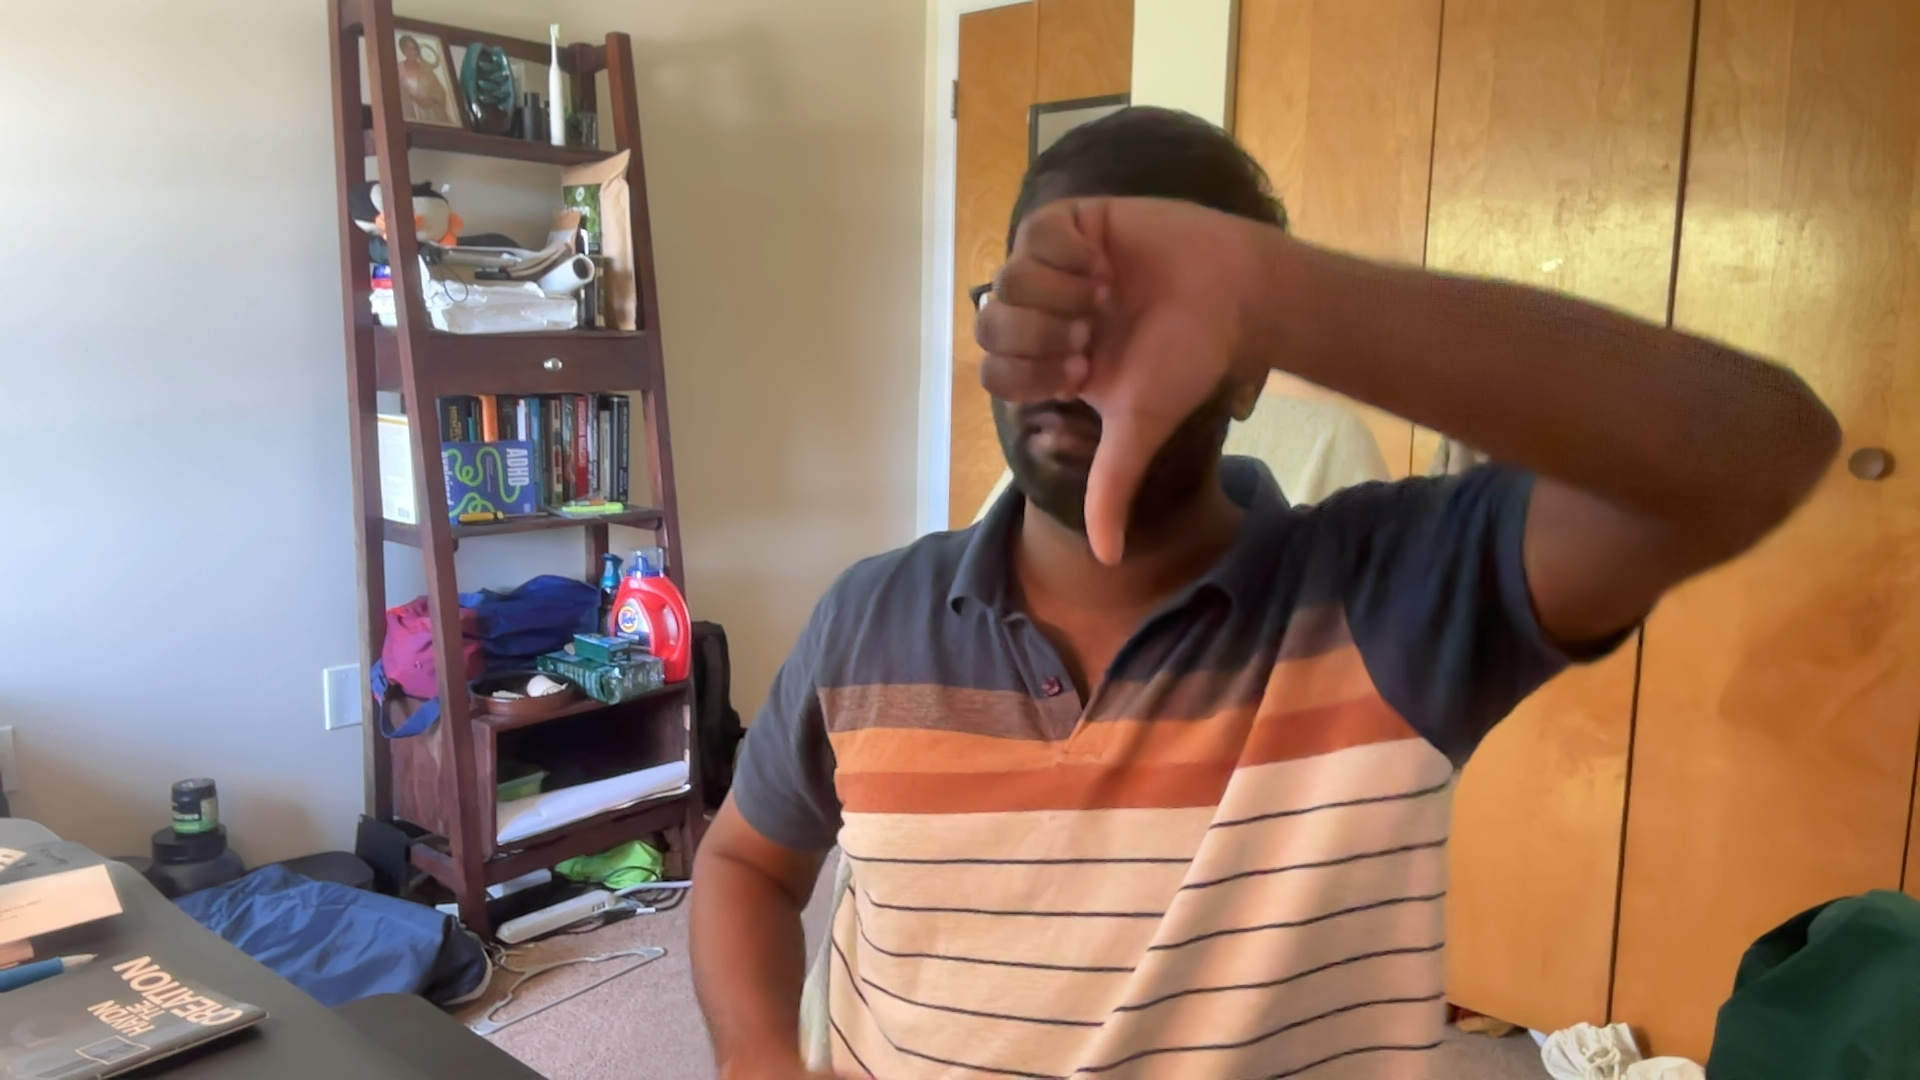ThumbsDown: (978, 202, 1240, 569)
